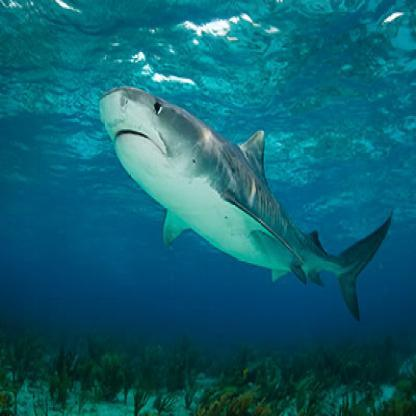Bio: (90, 68, 396, 327)
